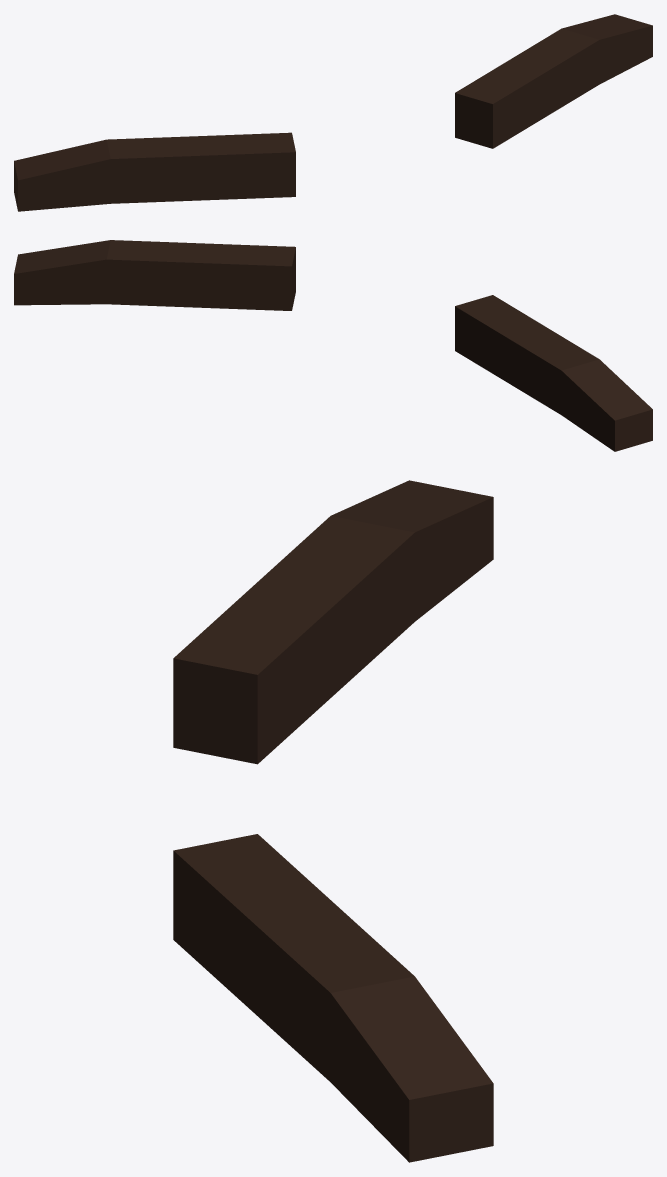
Rendered from NeutralEyebrowsF.glb.
The picture shows the model from 3 angles, top to bottom: view 1: azimuth 30°, elevation 25°; view 2: azimuth 150°, elevation 25°; view 3: azimuth 270°, elevation 25°; orthographic projection. The views are drawn at different scales.
Visible parts, largest first — view 1: NeutralEyebrowsF.001; view 2: NeutralEyebrowsF.001; view 3: NeutralEyebrowsF.001.
Boxes of the visible parts, x1,y1,x2,y2 form: NeutralEyebrowsF.001: (14,14,652,211); NeutralEyebrowsF.001: (14,240,652,451); NeutralEyebrowsF.001: (173,480,493,1162).
Size of the model in its own units: 1.58 by 0.1167 by 0.3442.
